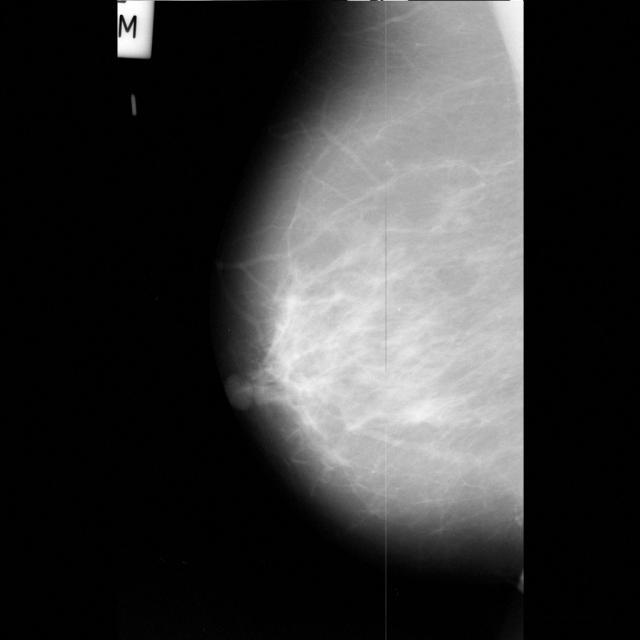MISC: (398, 393, 436, 431)
